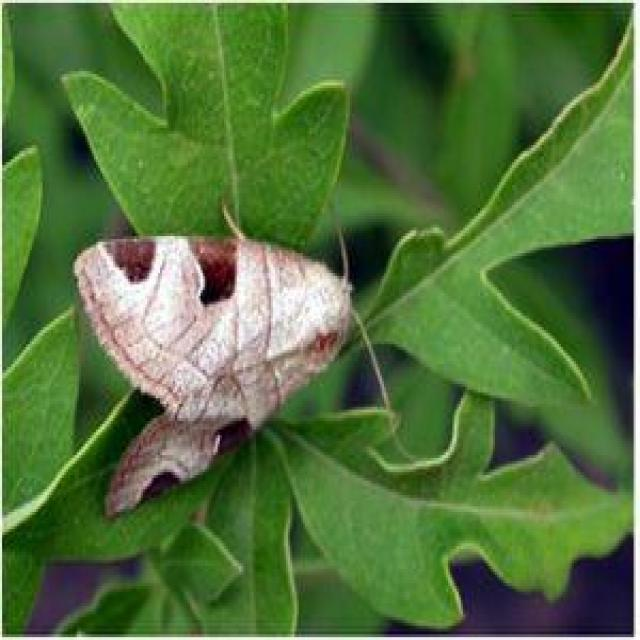BeetArmyWorm-Adult-: (56, 212, 376, 519)
